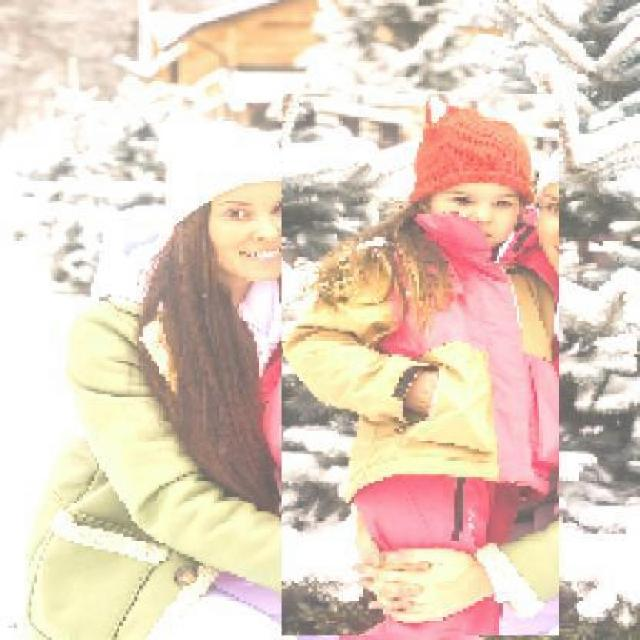child: (280, 94, 560, 637)
